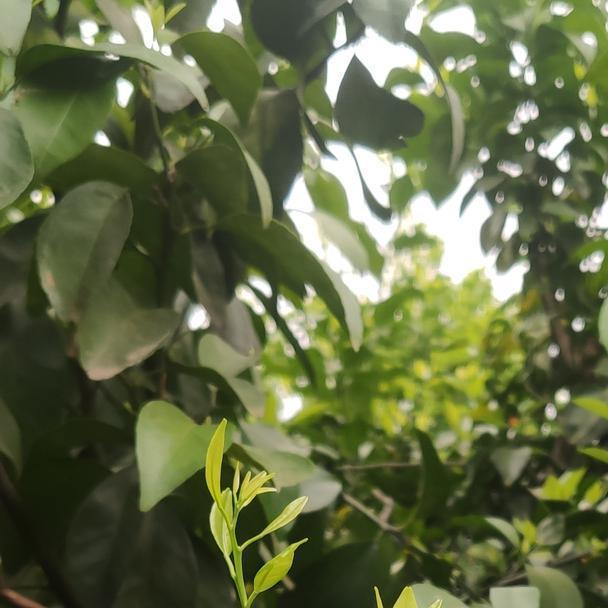shoot: (207, 432, 307, 600)
